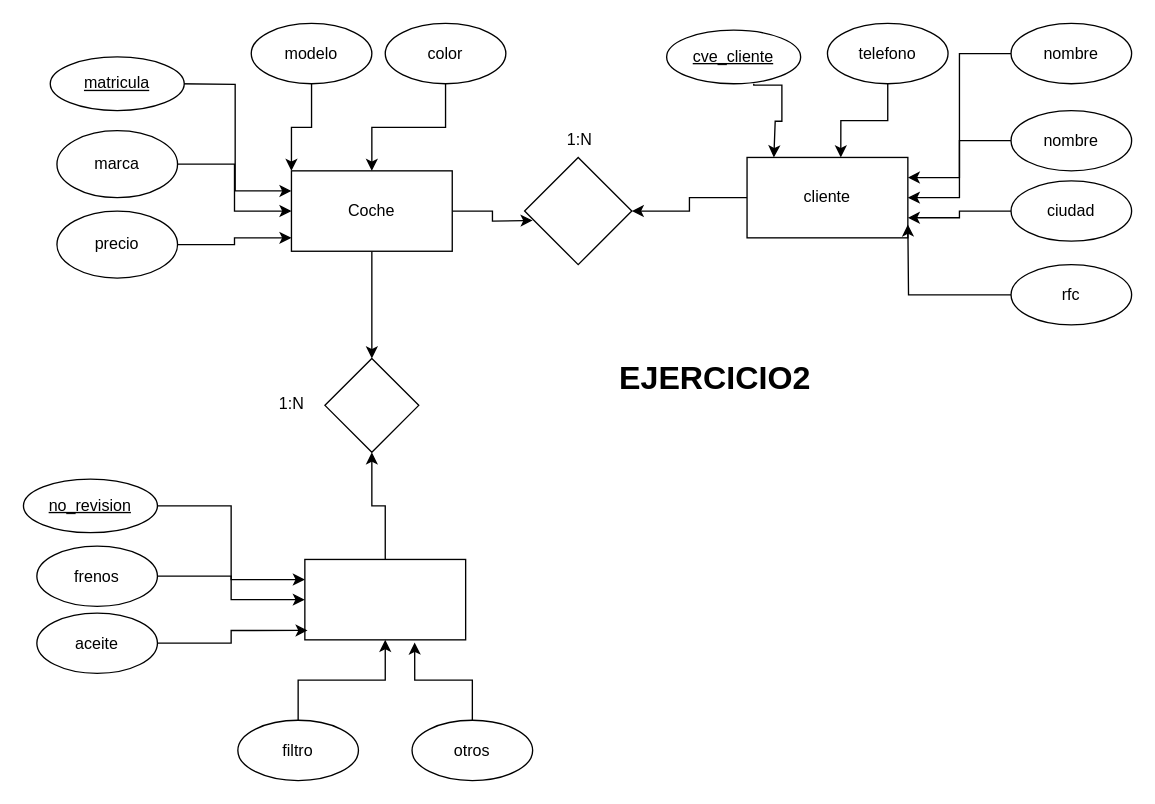
This 1155x804 diagram has some shape labels left out. The shapes that lost their labels are listed below. From the top down, each one's centre as x and y in pixels, then its label:
At [577,210]: "comprar".
At [371,404]: "revision".
At [385,599]: "bitacoraServicio".
